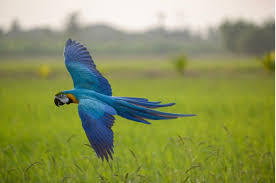guacamaya: (46, 38, 203, 163)
